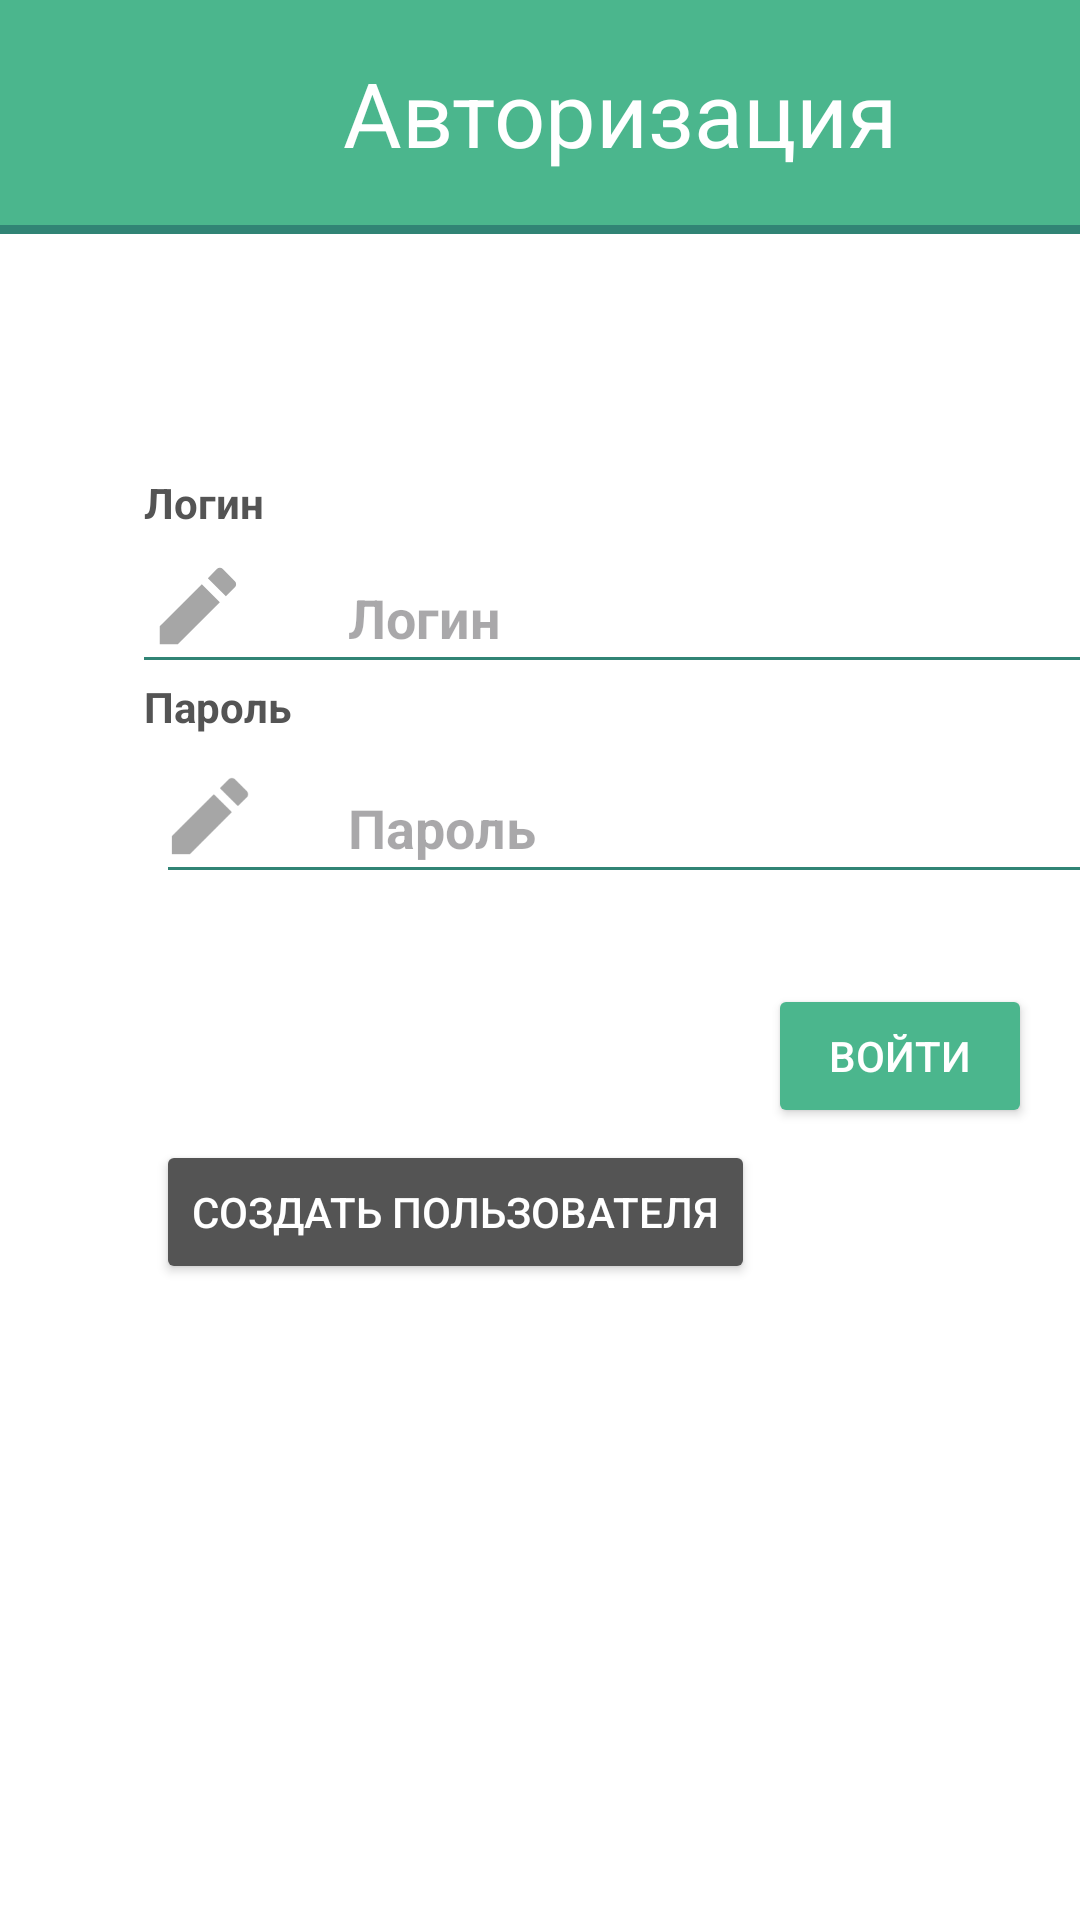

Icon click points for this 1080 x 1920 phone screenshot, format [x,y]:
pen: [198,606], [210,816]
